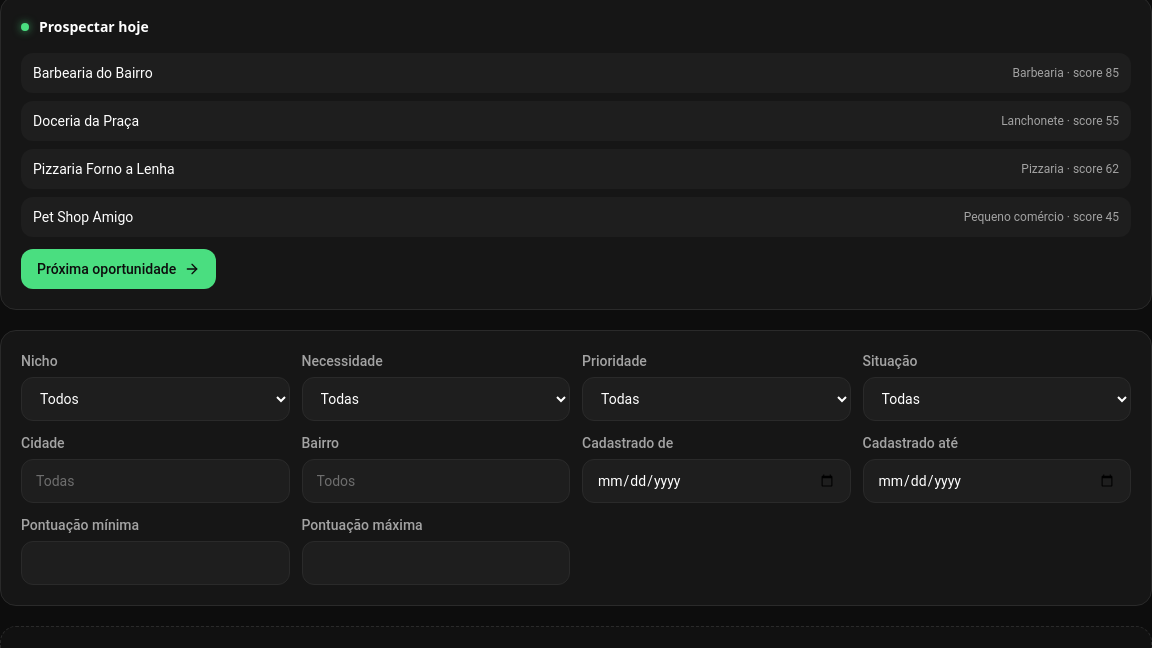
it: OpportunitiesPage estado vazio e erro › mantém estado vazio neutro e oferta Limpar filtros quando os filtros esvaziam a lista
The width and height of the screenshot is (1152, 648).
Select "Pizzaria" in the dropdown labelled "Nicho": (155, 399) [21, 377, 290, 421]
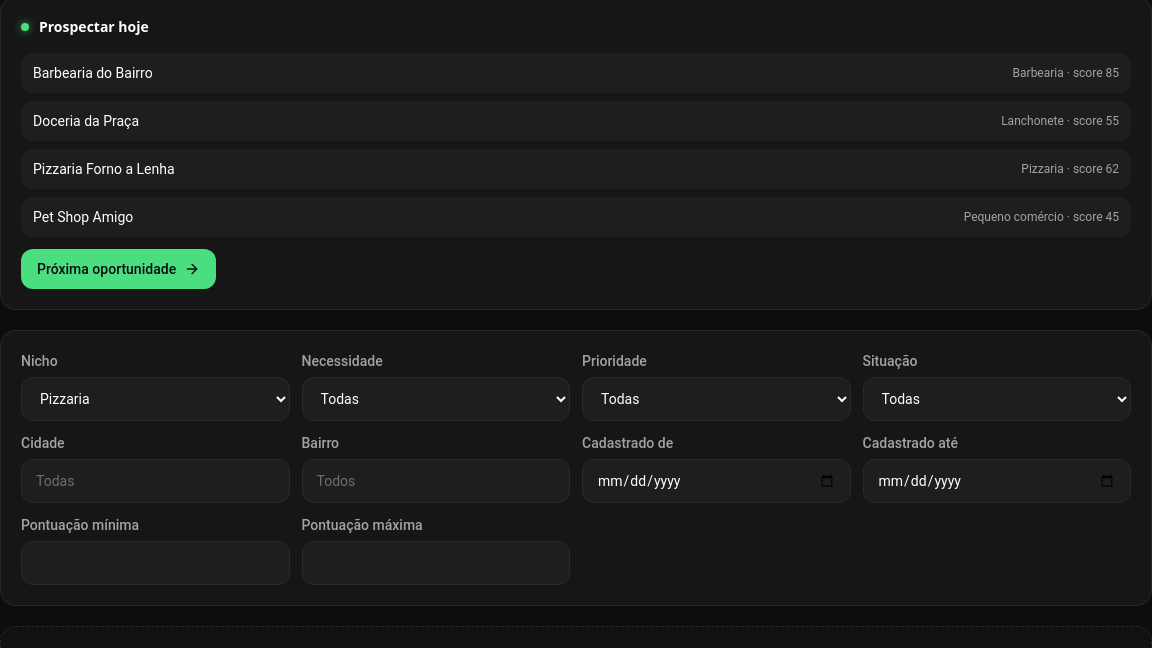
Expected: the text "Nenhuma oportunidade identificada" is not shown
In the field labelled "Cidade": (155, 481) [21, 459, 290, 503], type "Campinas"
(page scrolled)
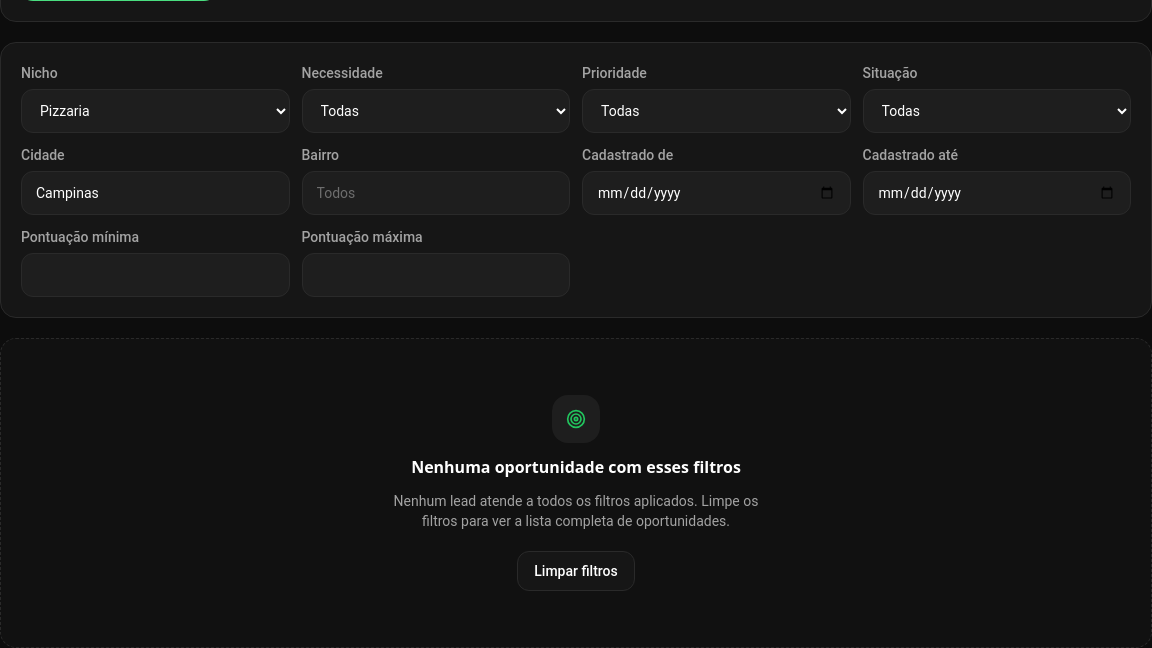
Click the button "Limpar filtros": (576, 571) [517, 551, 635, 591]
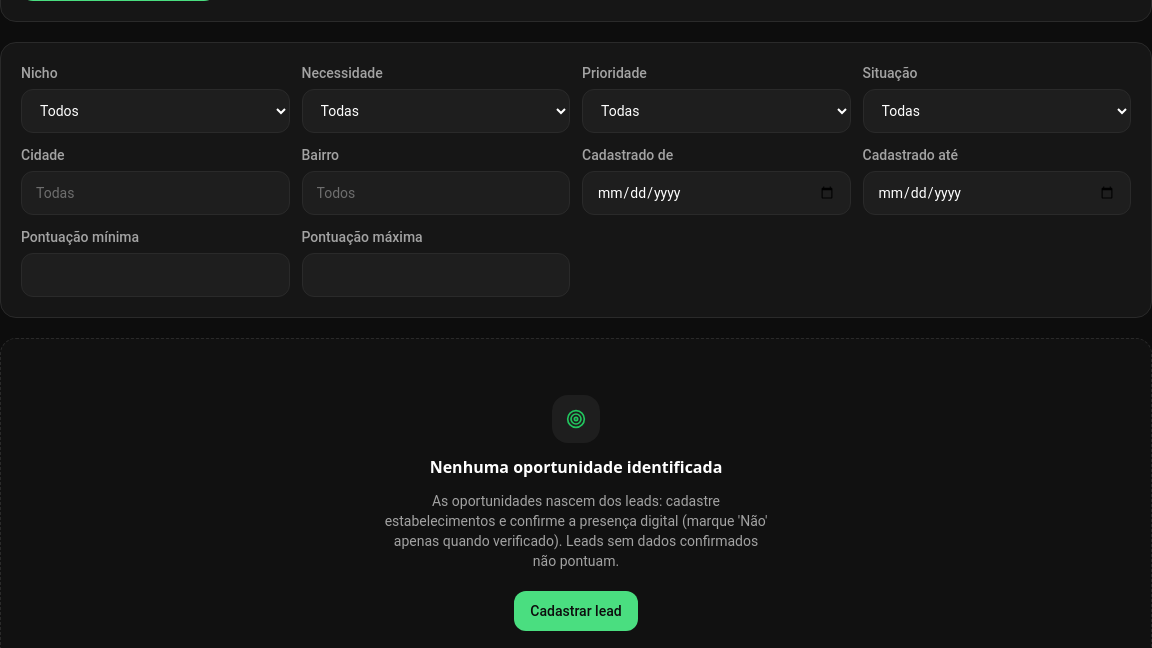
Result: the field labelled "Cidade" is empty at [21, 171, 290, 215]
Result: the button "Limpar filtros" is gone
Result: the heading "Nenhuma oportunidade identificada" is shown at [430, 455, 722, 479]
